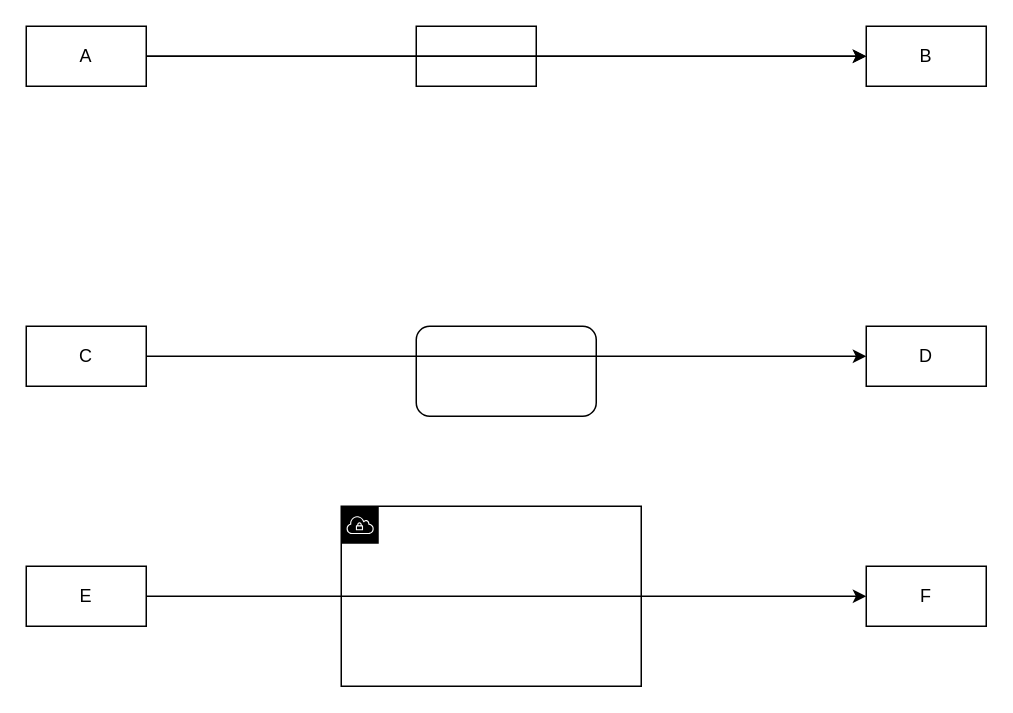
This 1013x713 diagram has some shape labels left out. Here are the shapes that lost their labels. From the top down, the centre of each, then its label:
[475,55]: MID
[505,370]: 凡例
[490,595]: VPC
